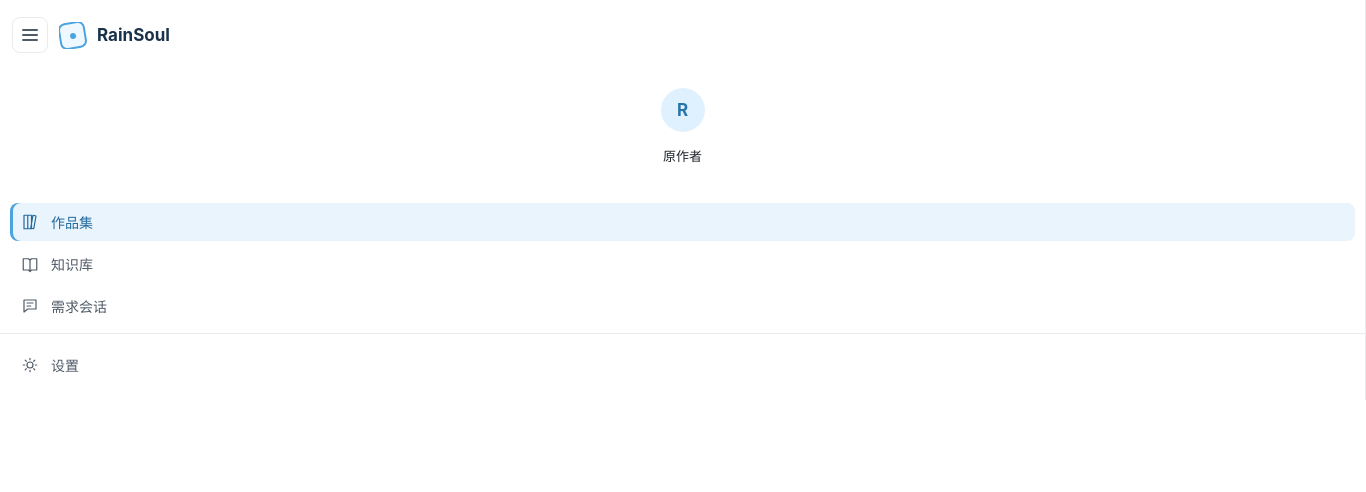
个人资料交互 › 侧栏名称保存失败时保留输入，Escape可取消
Click the button with aria-label "编辑显示名称：原作者" at (682, 155), box [655, 141, 710, 169]
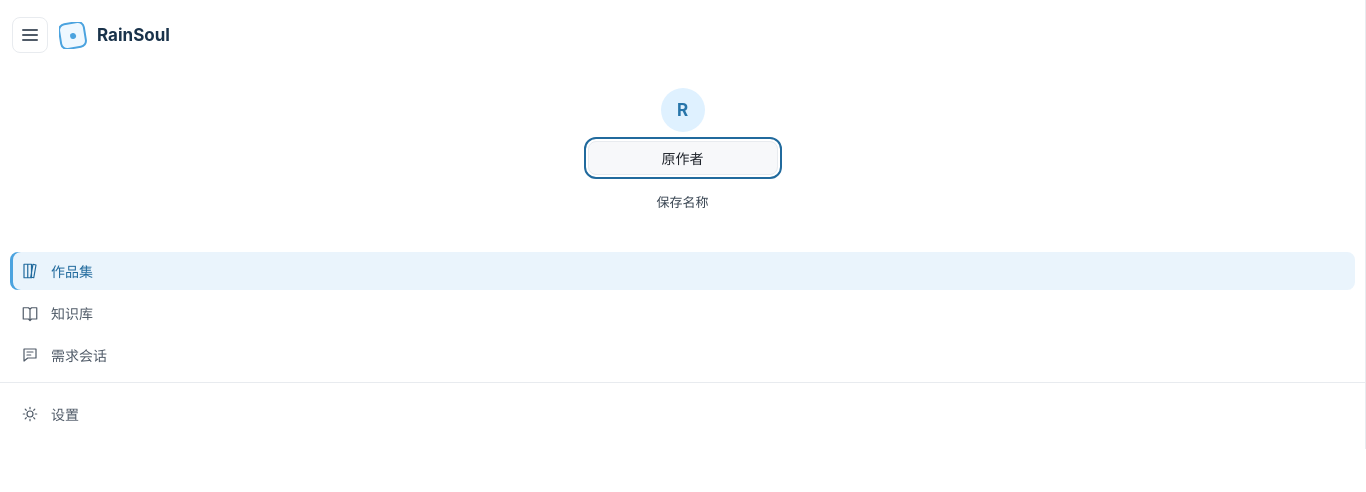
Replace the text in the field named "修改显示名称" with "新作者" at (682, 158), box [588, 141, 778, 175]
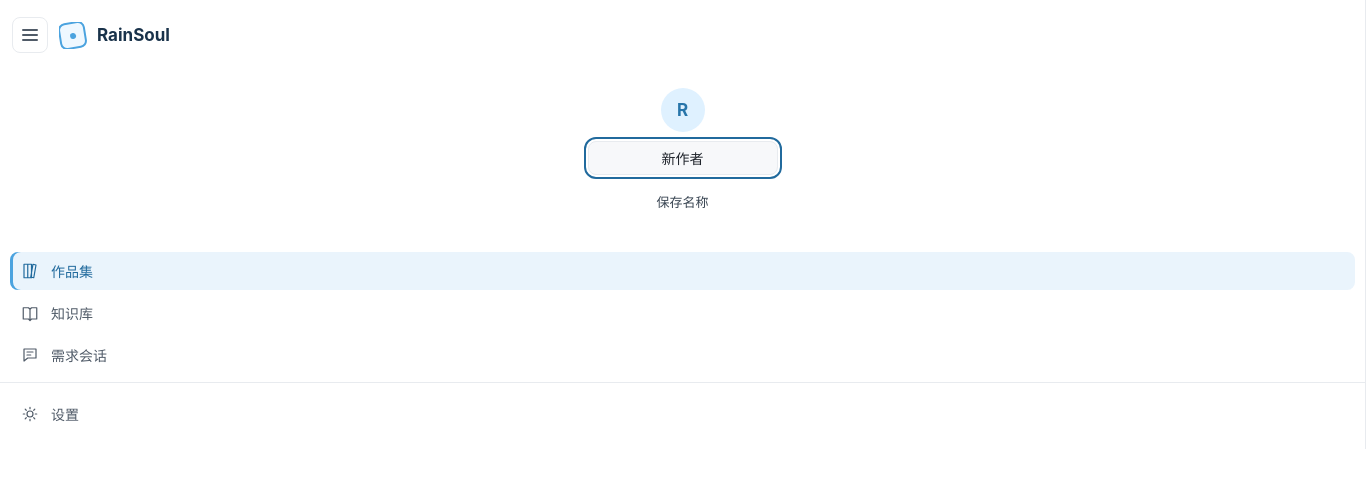
Press Enter in the field named "修改显示名称", box [588, 141, 778, 175]
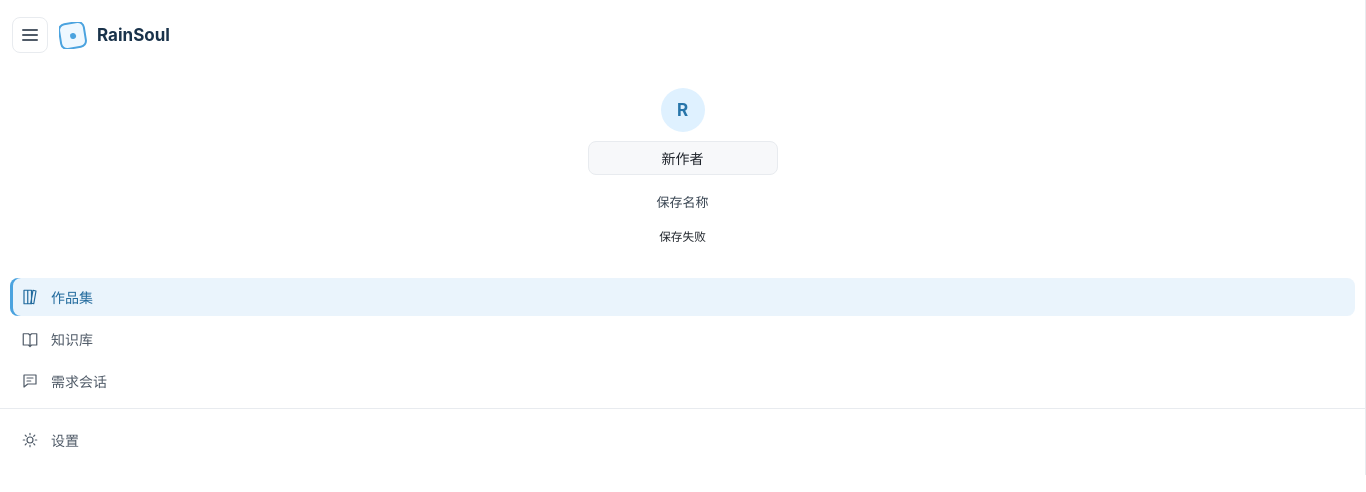
Result: the message reads "保存失败" at [659, 230, 706, 244]
Press Escape in the field named "修改显示名称", box [588, 141, 778, 175]
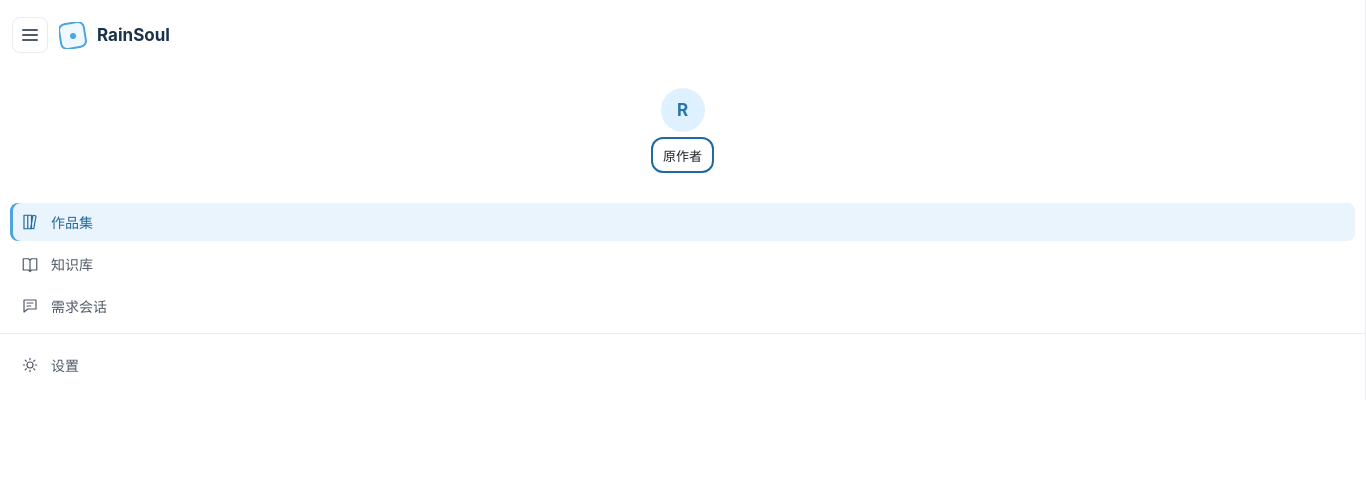
Result: the button with aria-label "编辑显示名称：原作者" is shown at [655, 141, 710, 169]
